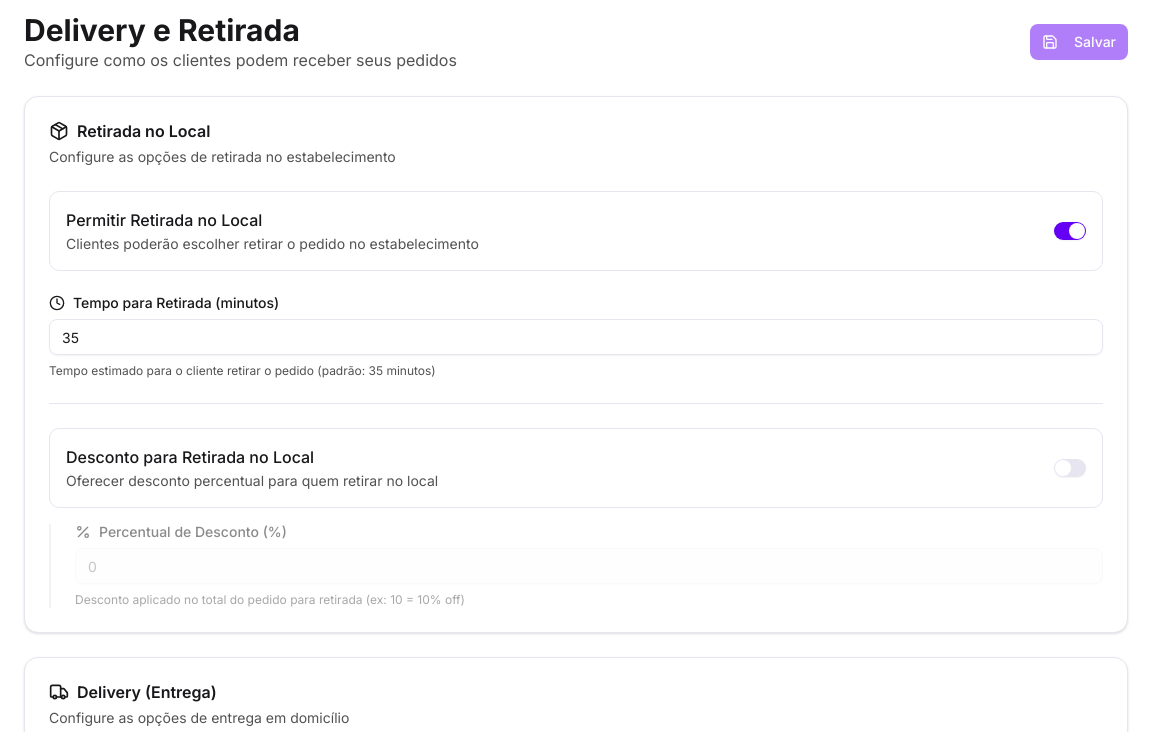
Test: DeliverySettingsPage - Configurações de Delivery e Retirada › should disable pickup fields when pickup is disabled
This screenshot has width=1152, height=732.
Check: the heading "Delivery e Retirada" is shown, box [24,12,300,48]
Note: Desabilitar retirada
Click the switch named "Permitir Retirada no Local" in the row of "Permitir Retirada no Local" at (1070, 231), box [1054,222,1086,240]
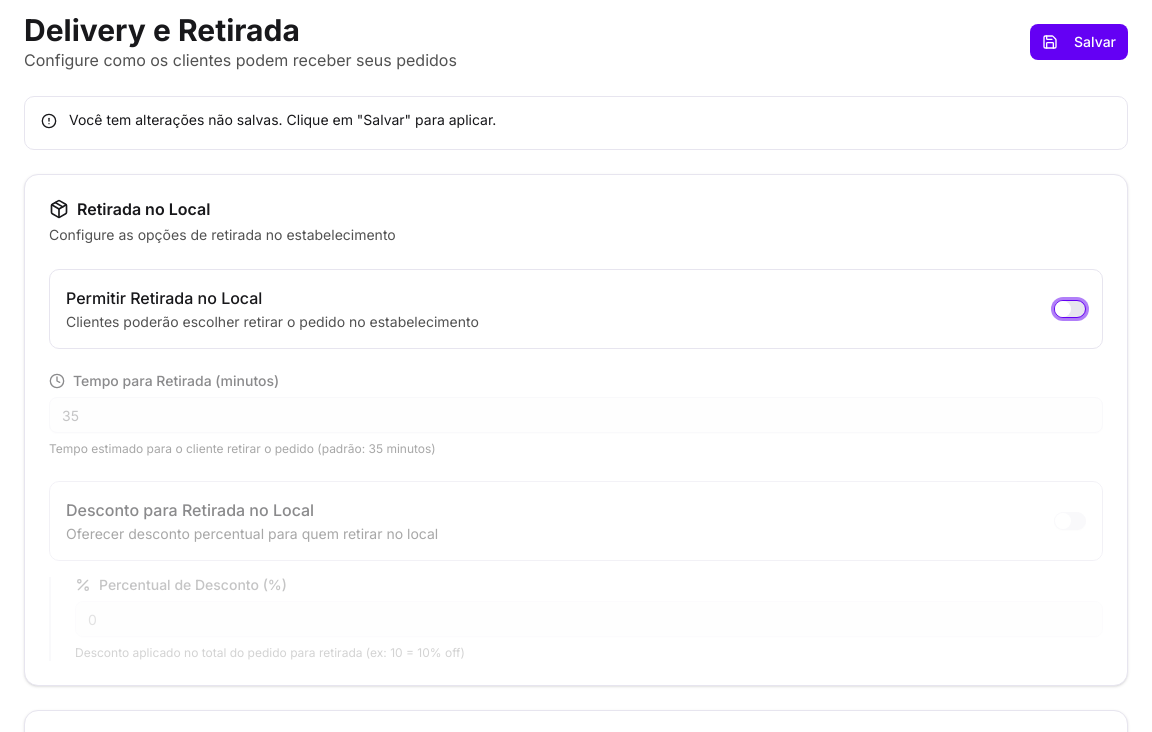
Check: the number field labelled "Tempo para Retirada (minutos)" is disabled, box [49,397,1103,433]
